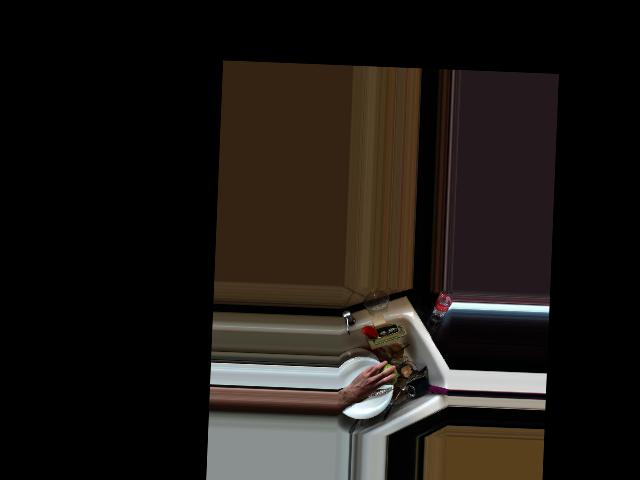apple: (374, 363, 397, 386)
